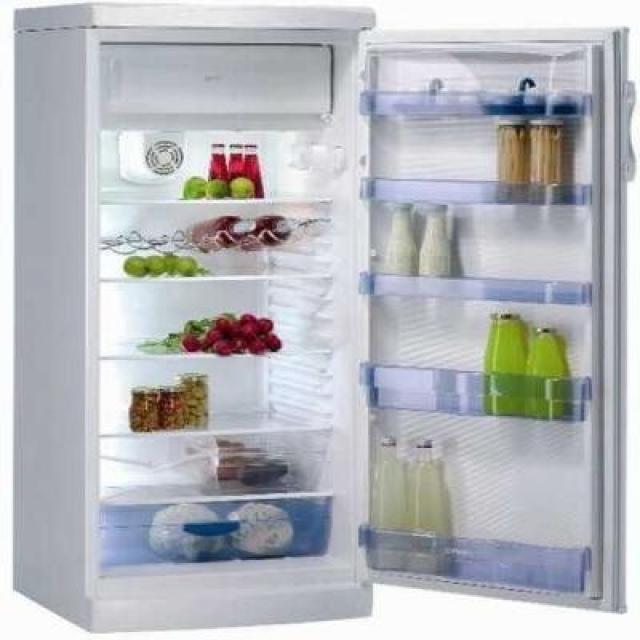refrigerator: (85, 4, 616, 606)
